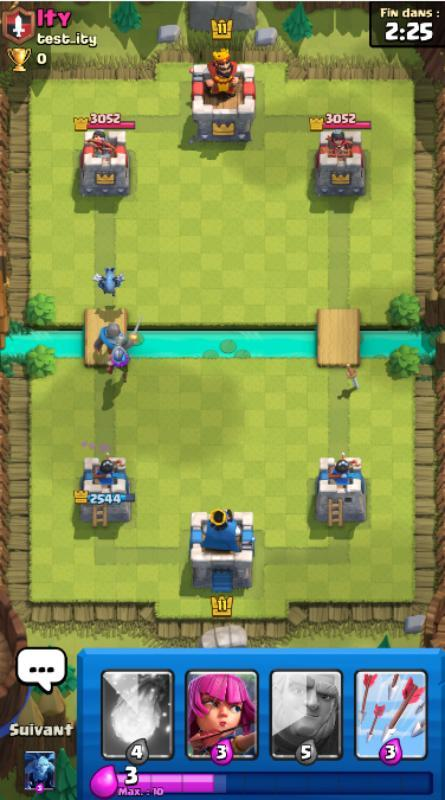chevalier: (93, 316, 144, 355)
gargouille: (94, 265, 126, 297)
mousquetaire: (104, 336, 132, 385)
